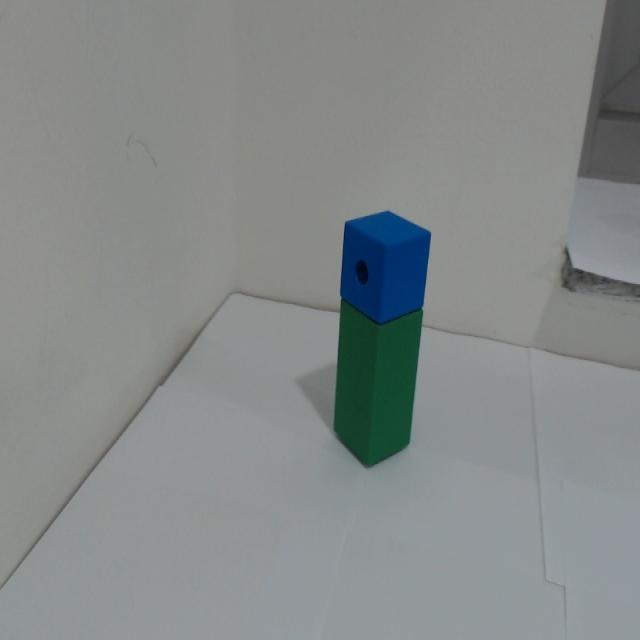cube: (326, 187, 439, 318)
